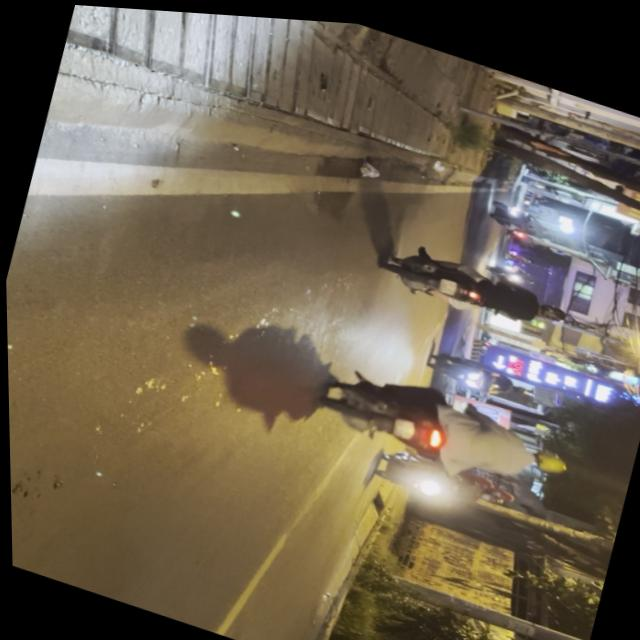helmet: (525, 439, 569, 472), (537, 295, 568, 320)
licenseplate: (311, 350, 577, 500), (378, 231, 574, 337)
nohelmet: (391, 411, 415, 436), (437, 270, 456, 289)
